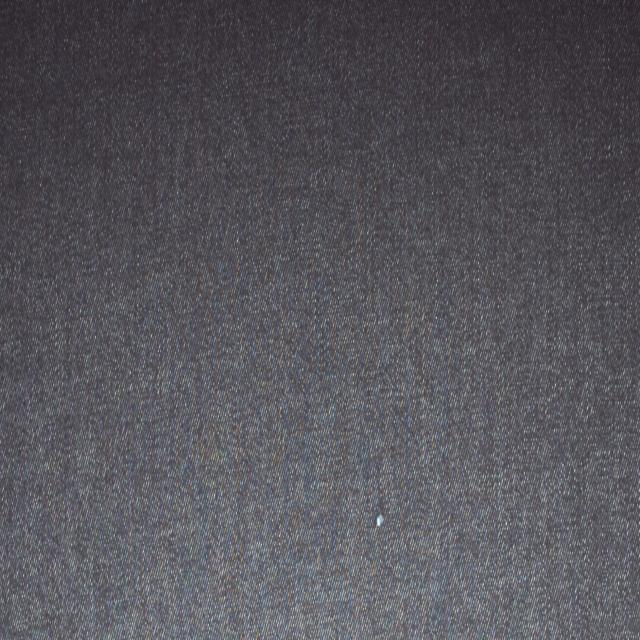Knot: (375, 514, 385, 528)
